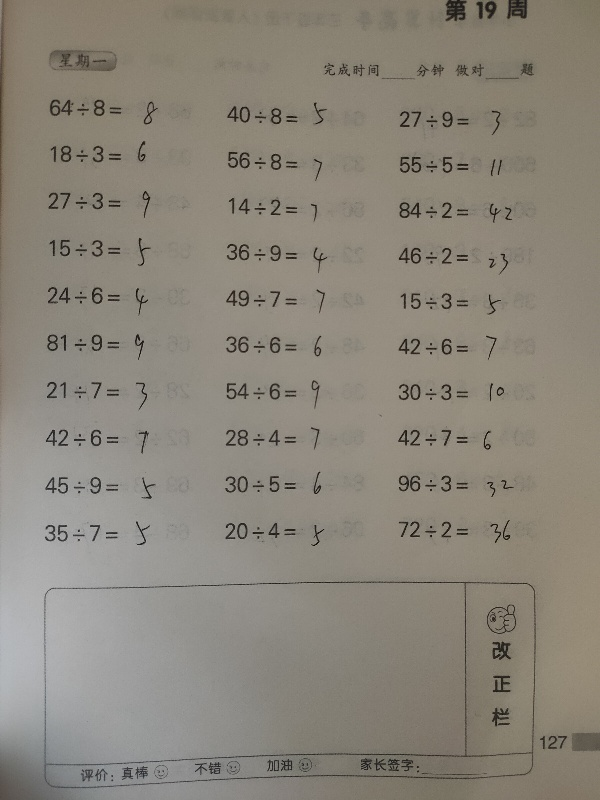equation: (36, 80, 182, 134), (212, 86, 344, 138), (35, 280, 197, 322), (215, 145, 348, 186), (394, 511, 532, 550), (216, 194, 349, 234), (389, 243, 525, 282), (391, 464, 532, 501), (394, 101, 517, 143), (393, 377, 524, 416), (393, 194, 522, 233), (40, 183, 158, 223), (394, 326, 511, 366), (218, 514, 331, 555), (37, 373, 157, 411), (40, 470, 162, 507), (37, 236, 169, 270), (216, 374, 348, 408), (209, 419, 332, 454), (37, 516, 156, 551), (40, 422, 161, 456), (222, 328, 335, 364), (221, 281, 340, 315), (392, 285, 518, 317), (210, 468, 336, 497), (396, 151, 509, 183), (35, 333, 155, 360), (221, 246, 340, 273), (392, 429, 512, 455), (35, 142, 156, 167)
